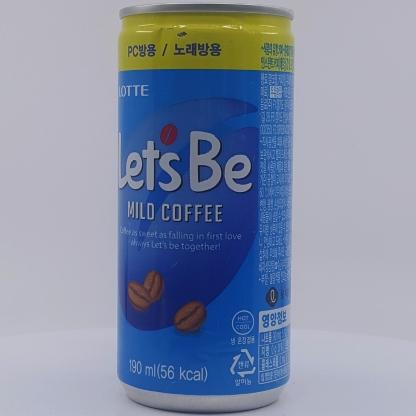------190ml: (116, 2, 295, 413)
